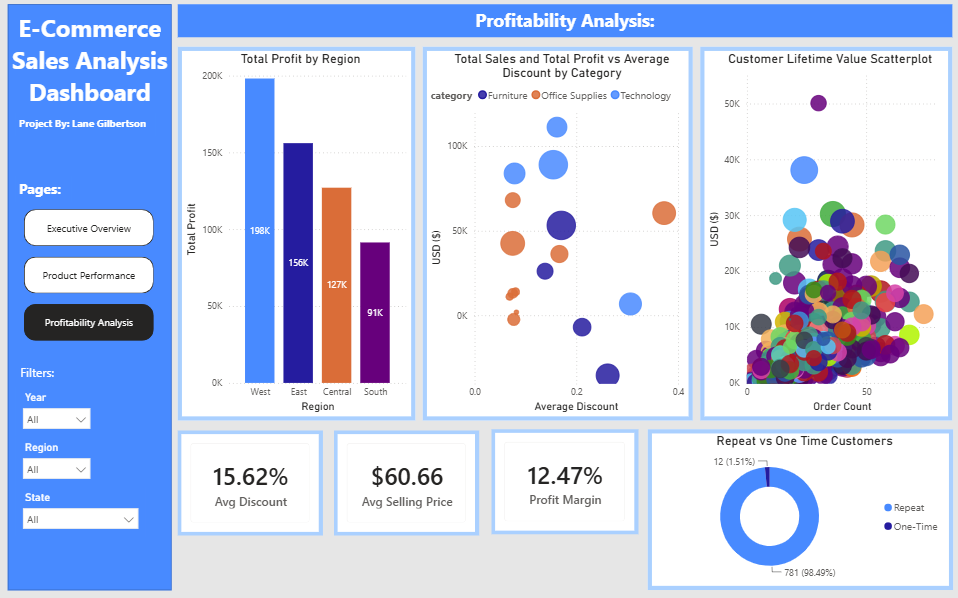

Layout of this report page (visuals, bound fields, positions):
{"tool":"powerbi","page":{"name":"Profitability Analysis","canvas":[1280,800],"ordinal":2},"visuals":[{"type":"shape","box":[11.4,8.6,218.6,781.4],"z":0},{"type":"textbox","box":[11.2,13.8,218.8,152.5],"z":1000},{"type":"textbox","box":[21.2,153.8,187.5,31.2],"z":2000},{"type":"textbox","box":[238.8,8.8,1032.5,43.8],"z":3000},{"type":"slicer","fields":{"Values":["public sales_analysis.order_date.Variation.Date Hierarchy.Year"]},"box":[22.3,519,110,66.2],"z":4000},{"type":"slicer","fields":{"Values":["public sales_analysis.region"]},"box":[22.3,585.2,110,66.2],"z":5000},{"type":"slicer","fields":{"Values":["public sales_analysis.state"]},"box":[22.3,651.5,173.8,66.2],"z":6000},{"type":"textbox","box":[21.9,237,75.3,35.6],"z":7000},{"type":"textbox","box":[23.6,482.7,66.2,36.2],"z":8000},{"type":"pageNavigator","box":[32.9,282.2,174,176.7],"z":9000},{"type":"columnChart","title":"Total Profit by Region","fields":{"Category":["public sales_analysis.region"],"Y":["Sum(public sales_analysis.profit)"],"Series":["public sales_analysis.region"]},"box":[238.4,64.4,316.4,498.6],"z":10000},{"type":"scatterChart","title":"Total Sales and Total Profit vs Average Discount by Category","fields":{"X":["Avg(public sales_analysis.discount)"],"Y":["Sum(public sales_analysis.profit)"],"Category":["public sales_analysis.sub_category"],"Size":["Sum(public sales_analysis.sales)"],"Series":["public sales_analysis.category"]},"box":[565.8,64.4,360.3,498.6],"z":11000},{"type":"scatterChart","title":"Customer Lifetime Value Scatterplot","fields":{"X":["public sales_analysis.order_id"],"Y":["Sum(public sales_analysis.sales)"],"Size":["Sum(public sales_analysis.profit)"],"Category":["public sales_analysis.customer_name"],"Series":["public sales_analysis.state"]},"box":[935.6,64.4,335.6,498.6],"z":12000},{"type":"donutChart","title":"Repeat vs One Time Customers","fields":{"Category":["public customer_repeat_analysis.customer_type"],"Y":["Sum(public customer_repeat_analysis.num_customers)"]},"box":[864.3,575.7,407.1,214.3],"z":13000},{"type":"cardVisual","fields":{"Data":["public customer_repeat_analysis.Avg Discount"]},"box":[238.8,576.2,193.8,140],"z":14000},{"type":"cardVisual","fields":{"Data":["public customer_repeat_analysis.Avg Selling Price"]},"box":[446.2,576.2,193.8,140],"z":15000},{"type":"cardVisual","fields":{"Data":["public customer_repeat_analysis.Profit Margin"]},"box":[657.1,575.7,195.7,140],"z":16000}]}

Visuals, with their boxes in screenshot pixels (x1, y1, x2, y2), scaled from the page's 1280x800 canvas onto the 958x598 screenshot:
shape: (left=9, top=6, right=172, bottom=591)
textbox: (left=8, top=10, right=172, bottom=124)
textbox: (left=16, top=115, right=156, bottom=138)
textbox: (left=179, top=7, right=951, bottom=39)
slicer - public sales_analysis.order_date.Variation.Date Hierarchy.Year: (left=17, top=388, right=99, bottom=437)
slicer - public sales_analysis.region: (left=17, top=437, right=99, bottom=487)
slicer - public sales_analysis.state: (left=17, top=487, right=147, bottom=536)
textbox: (left=16, top=177, right=73, bottom=204)
textbox: (left=18, top=361, right=67, bottom=388)
pageNavigator: (left=25, top=211, right=155, bottom=343)
"Total Profit by Region" columnChart: (left=178, top=48, right=415, bottom=421)
"Total Sales and Total Profit vs Average Discount by Category" scatterChart: (left=423, top=48, right=693, bottom=421)
"Customer Lifetime Value Scatterplot" scatterChart: (left=700, top=48, right=951, bottom=421)
"Repeat vs One Time Customers" donutChart: (left=647, top=430, right=952, bottom=591)
cardVisual - public customer_repeat_analysis.Avg Discount: (left=179, top=431, right=324, bottom=535)
cardVisual - public customer_repeat_analysis.Avg Selling Price: (left=334, top=431, right=479, bottom=535)
cardVisual - public customer_repeat_analysis.Profit Margin: (left=492, top=430, right=638, bottom=535)
